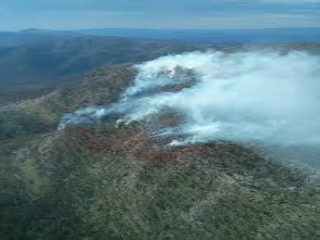smoke: (48, 50, 278, 149)
